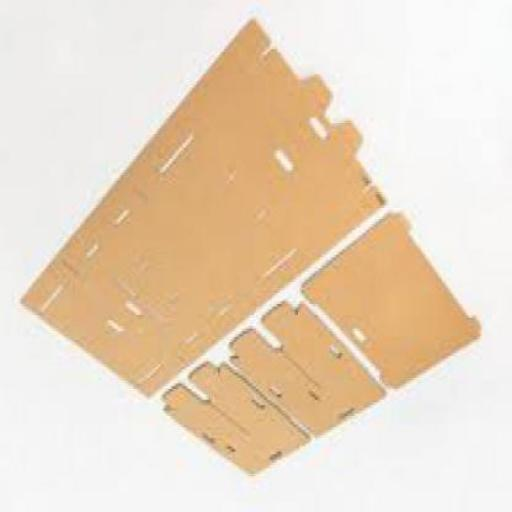cardboard: (23, 24, 387, 402), (303, 214, 483, 392), (232, 304, 386, 438), (166, 364, 310, 479)
